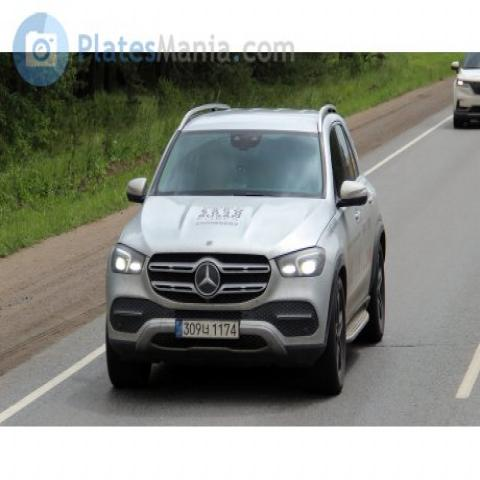LP: (169, 309, 245, 345)
